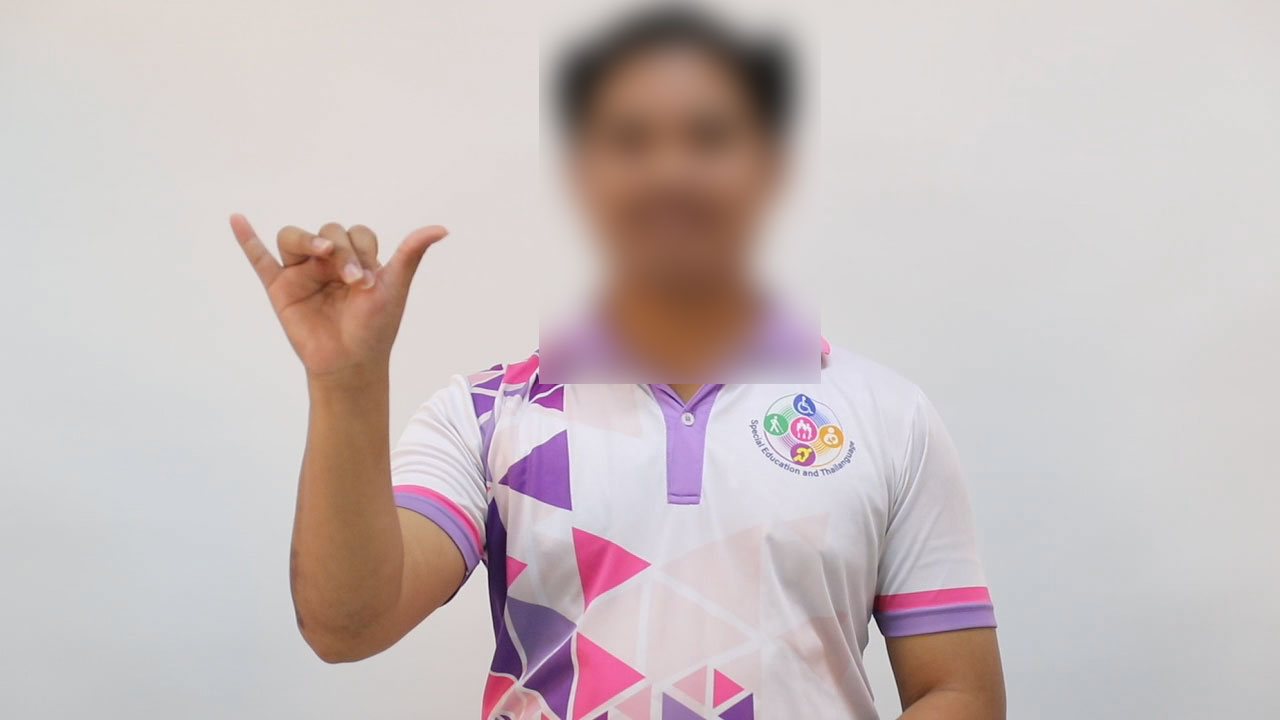yor: (210, 199, 464, 388)
